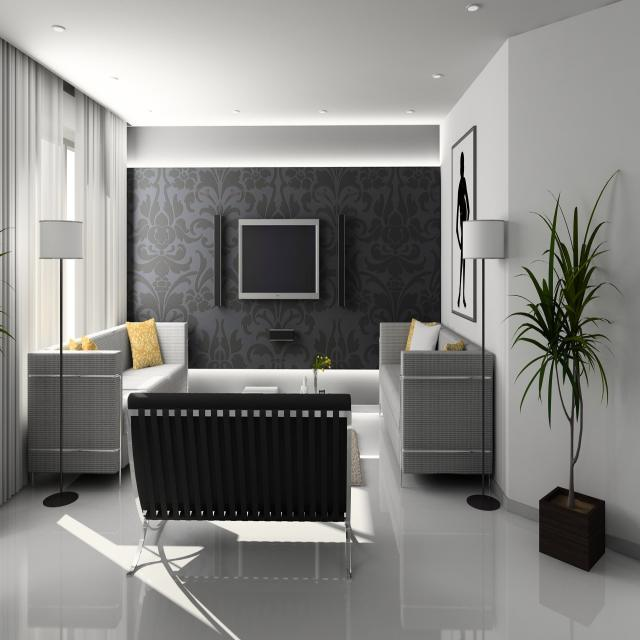floor: (0, 403, 640, 640)
wall: (508, 0, 640, 562), (127, 167, 441, 369), (439, 38, 509, 499), (127, 125, 440, 168), (227, 219, 319, 304)
